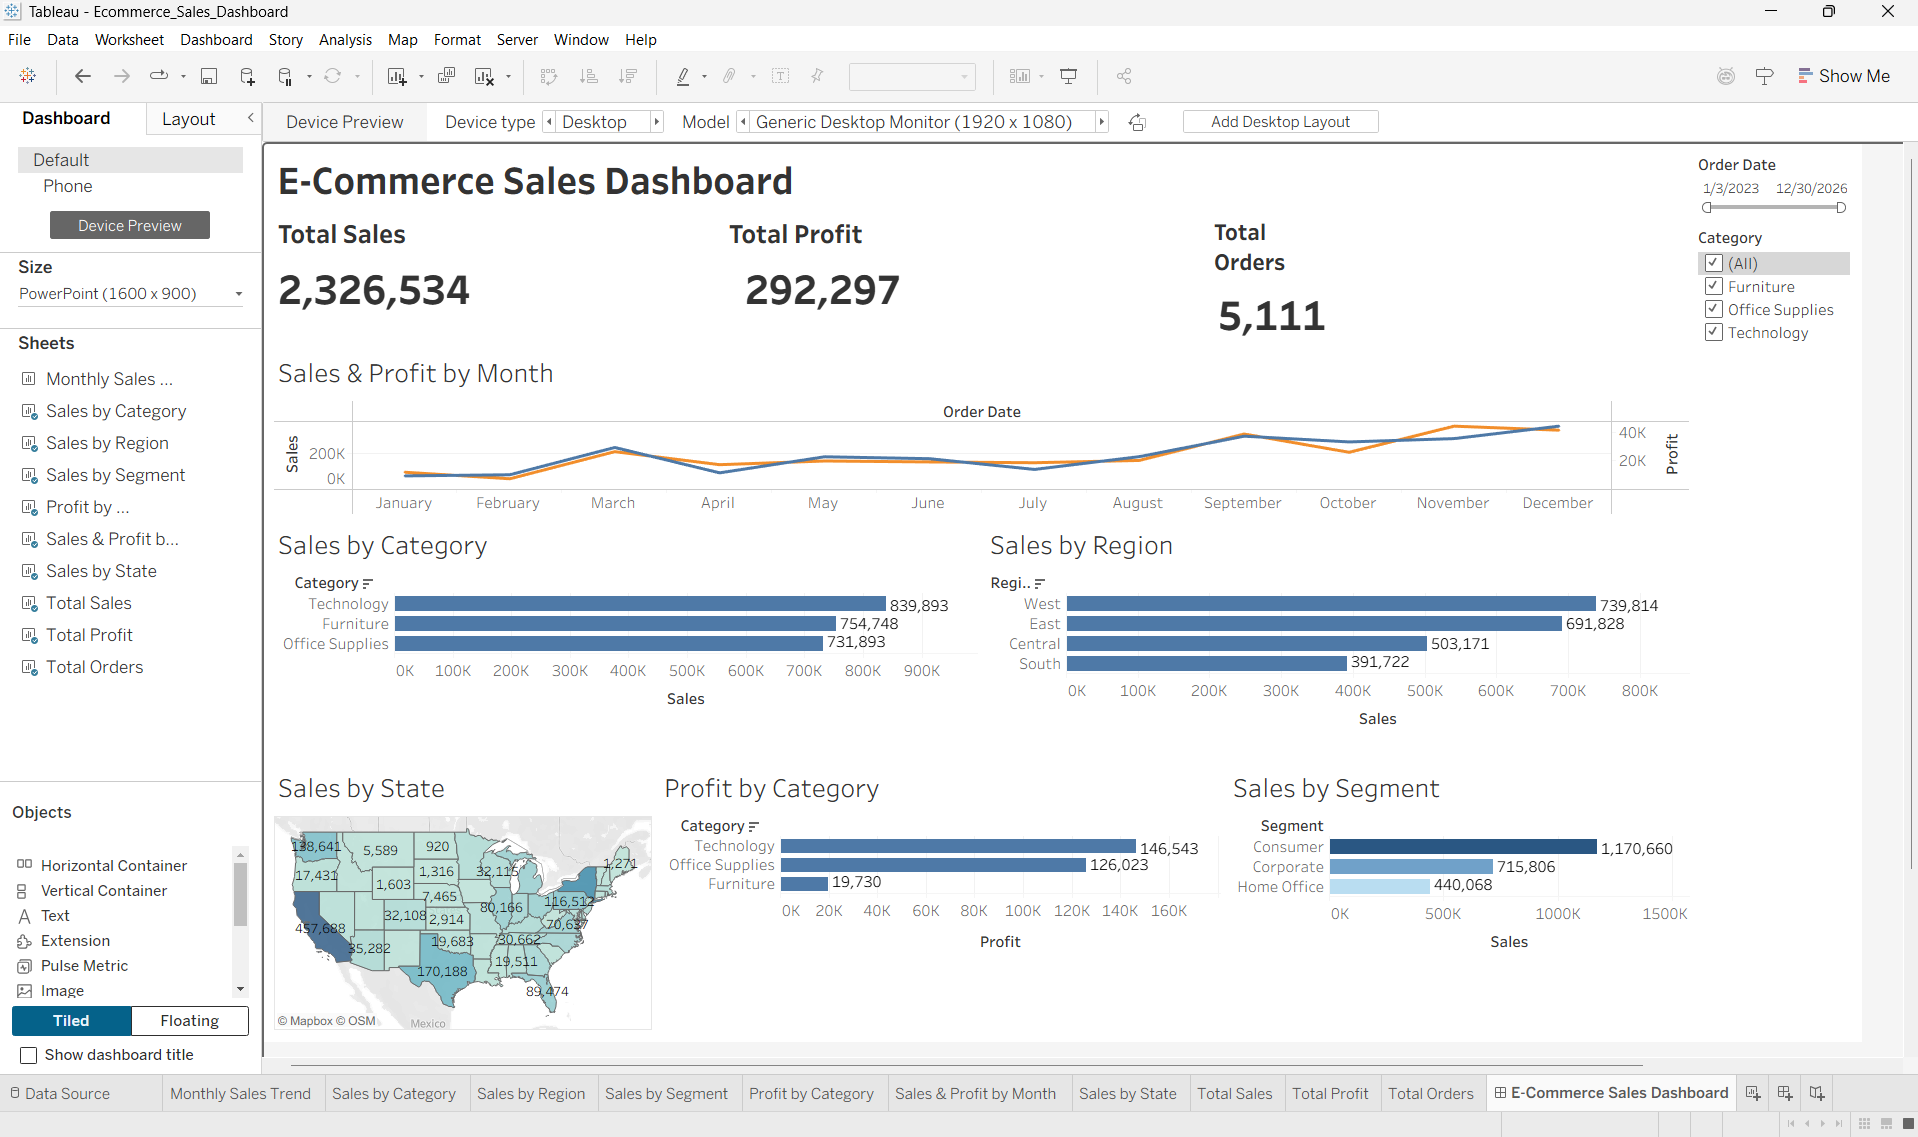

What the dashboard file says about the page in this screenshot:
{"tool":"tableau","page":{"name":"E-Commerce Sales Dashboard","canvas":[1600,900],"ordinal":0},"visuals":[{"type":"title","box":[8,8,1424,58]},{"type":"filter","title":"Sales by Category","param":"[federated.0btax7m03kxdly19iwi6n0j8b8nd].[none:Order Date:qk]","box":[1432,8,160,73]},{"type":"worksheet","title":"Total Sales","mark":"Automatic","box":[8,66,451.4,139]},{"type":"worksheet","title":"Total Profit","mark":"Automatic","box":[459.4,66,485.1,139]},{"type":"worksheet","title":"Total Orders","mark":"Automatic","box":[944.5,66,487.5,139]},{"type":"filter","title":"Sales by Category","param":"[federated.0btax7m03kxdly19iwi6n0j8b8nd].[none:Category:nk]","box":[1432,81,160,128]},{"type":"worksheet","title":"Sales & Profit by Month","mark":"Line","rows":["Sales","Profit"],"cols":["Order Date"],"box":[8,205,1424,172]},{"type":"worksheet","title":"Sales by Category","mark":"Bar","rows":["Category"],"cols":["Sales"],"box":[8,377,712,243]},{"type":"worksheet","title":"Sales by Region","mark":"Bar","rows":["Region"],"cols":["Sales"],"box":[720,377,712,243]},{"type":"worksheet","title":"Sales by State","mark":"Automatic","box":[8,620,386.1,272]},{"type":"worksheet","title":"Profit by Category","mark":"Bar","rows":["Category"],"cols":["Profit"],"box":[394.1,620,568.6,272]},{"type":"worksheet","title":"Sales by Segment","mark":"Bar","rows":["Segment"],"cols":["Sales"],"box":[962.7,620,469.3,272]}]}

Visuals, with their boxes on the page's 1600x900 design canvas (x1, y1, x2, y2). These are canvas units, not pixel positions in the 1918x1137 screenshot, which may show the page scaled, cropped or inside an application window:
title: region(8, 8, 1432, 66)
"Sales by Category" filter: region(1432, 8, 1592, 81)
"Total Sales" worksheet: region(8, 66, 459, 205)
"Total Profit" worksheet: region(459, 66, 944, 205)
"Total Orders" worksheet: region(944, 66, 1432, 205)
"Sales by Category" filter: region(1432, 81, 1592, 209)
"Sales & Profit by Month" worksheet (Line marks): region(8, 205, 1432, 377)
"Sales by Category" worksheet (Bar marks): region(8, 377, 720, 620)
"Sales by Region" worksheet (Bar marks): region(720, 377, 1432, 620)
"Sales by State" worksheet: region(8, 620, 394, 892)
"Profit by Category" worksheet (Bar marks): region(394, 620, 963, 892)
"Sales by Segment" worksheet (Bar marks): region(963, 620, 1432, 892)
